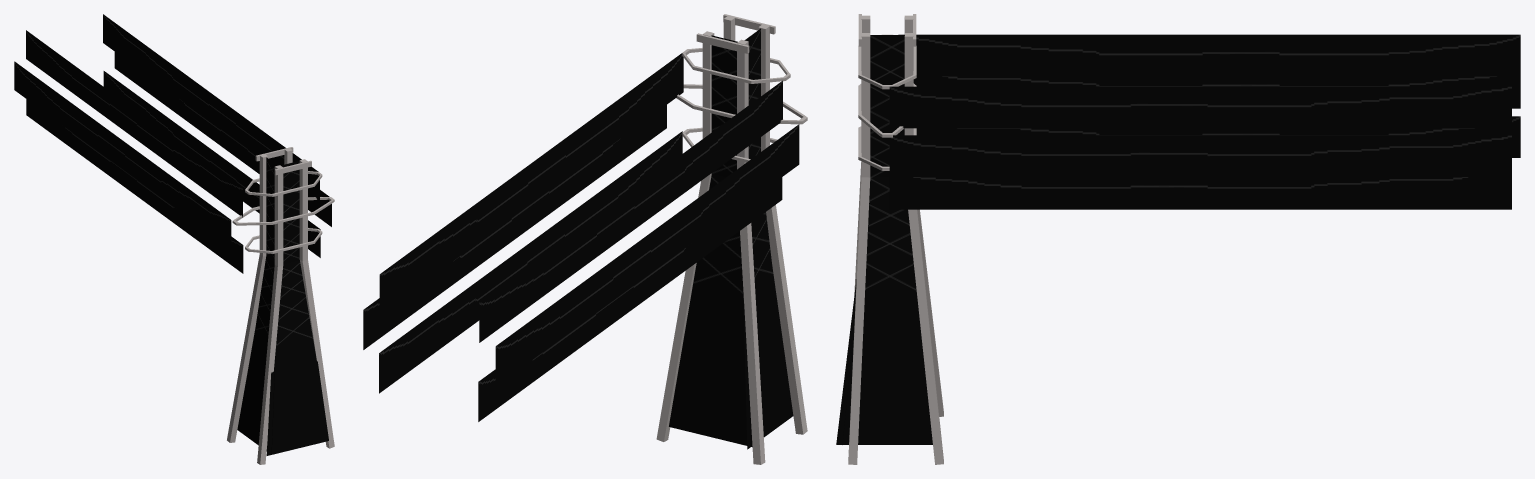
File: powerPole_withWires.fbx
The picture shows the model from 3 angles, left to right: view 1: azimuth 30°, elevation 25°; view 2: azimuth 150°, elevation 25°; view 3: azimuth 270°, elevation 25°; orthographic projection. The views are drawn at different scales.
Parts seen in each view (by area): view 1: powerWires2, powerLine05, powerLine04, powerLine01, powerWires1, powerLine06, powerLine03, powerLine02, pCube40, pCube41, pCube43, pCube54 (+2 smaller); view 2: powerWires, powerLine05, powerLine01, powerLine04, powerLine03, powerLine02, powerLine06, powerWires1, pCube41, pCube40, pCube42, pCube53 (+2 smaller); view 3: powerLine01, powerLine02, powerLine04, powerLine03, powerWires3, powerLine05, powerLine06, pCube43, pCube42, pCube41.
Boxes of the visible parts, box(x1,y1,x2,y2) form: powerWires2: box(266, 161, 328, 455); powerLine05: box(14, 61, 231, 248); powerLine04: box(26, 30, 242, 217); powerLine01: box(103, 14, 319, 201); powerWires1: box(237, 157, 277, 453); powerLine06: box(26, 99, 243, 273); powerLine03: box(103, 71, 320, 257); powerLine02: box(114, 52, 331, 226); pCube40: box(257, 165, 283, 464); pCube41: box(227, 154, 267, 442); pCube43: box(299, 159, 334, 448); pCube54: box(232, 197, 334, 225); powerWires: box(669, 35, 752, 447); powerLine05: box(495, 124, 799, 386); powerLine01: box(379, 53, 683, 314); powerLine04: box(479, 80, 782, 342); powerLine03: box(379, 131, 682, 393); powerLine02: box(363, 105, 666, 349); powerLine06: box(478, 177, 782, 421); powerWires1: box(743, 28, 793, 449); pCube41: box(737, 39, 765, 464); pCube40: box(758, 24, 807, 434); pCube42: box(656, 31, 714, 441); pCube53: box(682, 48, 790, 83); powerLine01: box(889, 86, 1511, 128); powerLine02: box(889, 135, 1511, 176); powerLine04: box(898, 34, 1520, 76); powerLine03: box(889, 177, 1511, 209); powerWires3: box(836, 35, 932, 444); powerLine05: box(913, 76, 1520, 108); powerLine06: box(916, 116, 1520, 157); pCube43: box(848, 33, 870, 464); pCube42: box(904, 33, 943, 464); pCube41: box(904, 15, 943, 416).
Bounding box in the file's own units: 1.75 × 4.91 × 7.37.
